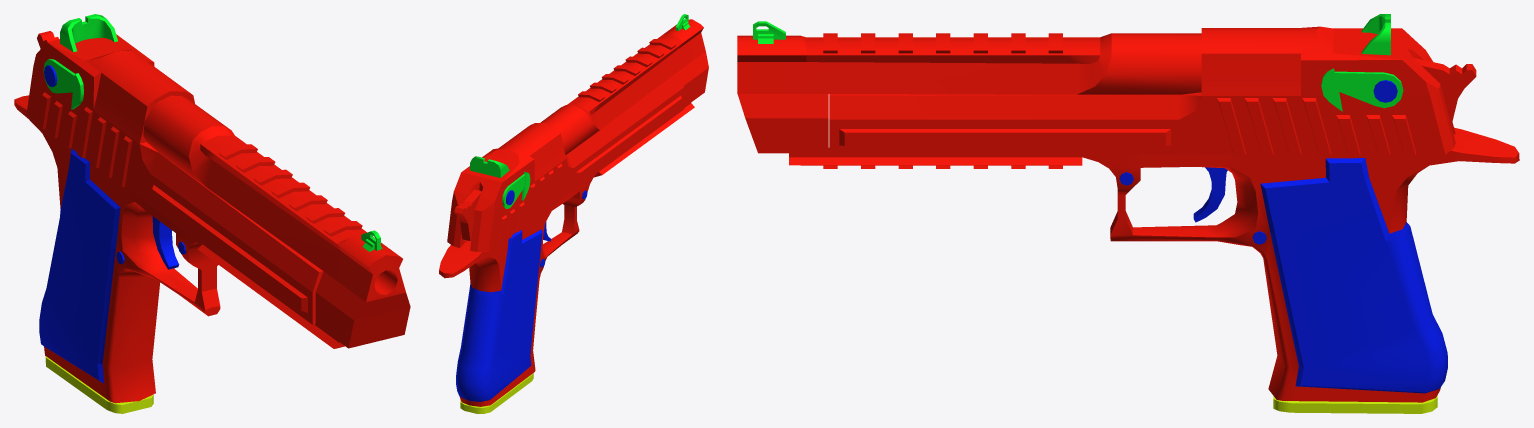
The picture shows the model from 3 angles, left to right: view 1: azimuth 30°, elevation 25°; view 2: azimuth 150°, elevation 25°; view 3: azimuth 270°, elevation 25°; orthographic projection. The views are drawn at different scales.
Visible parts, largest first — view 1: Magnum; view 2: Magnum; view 3: Magnum.
Boxes of the visible parts, bbox=[...] form: Magnum: bbox=[14, 14, 410, 413]; Magnum: bbox=[439, 14, 708, 413]; Magnum: bbox=[737, 14, 1519, 413].
Bounding box in the file's own units: 0.0349 × 0.1679 × 0.3122.
